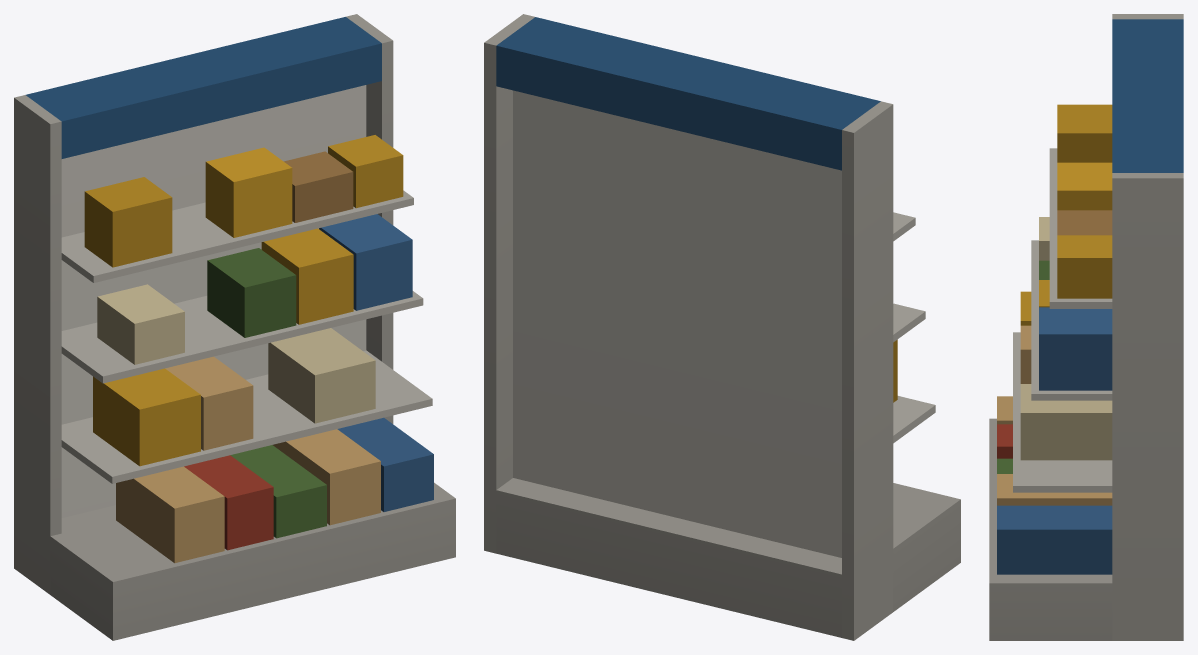
The model's file is shelf.end.boxes.glb.
3 renders of one model, left to right at view 1: azimuth 30°, elevation 25°; view 2: azimuth 150°, elevation 25°; view 3: azimuth 270°, elevation 25°, orthographic. The views are drawn at different scales.
Parts seen in each view (by area): view 1: shelf_end_boxes; view 2: shelf_end_boxes; view 3: shelf_end_boxes.
Part boxes in pixels (x1,y1,x2,y2): shelf_end_boxes: (14,14,455,640); shelf_end_boxes: (484,14,960,640); shelf_end_boxes: (989,14,1183,640).
Size of what is drawn, in the model's own units: 1.52 by 2 by 0.762.
